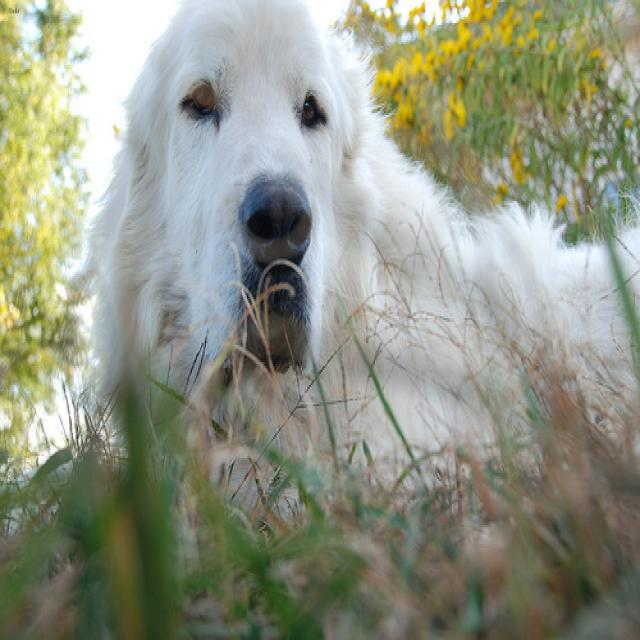dog-great_pyrenees: (78, 2, 637, 546)
